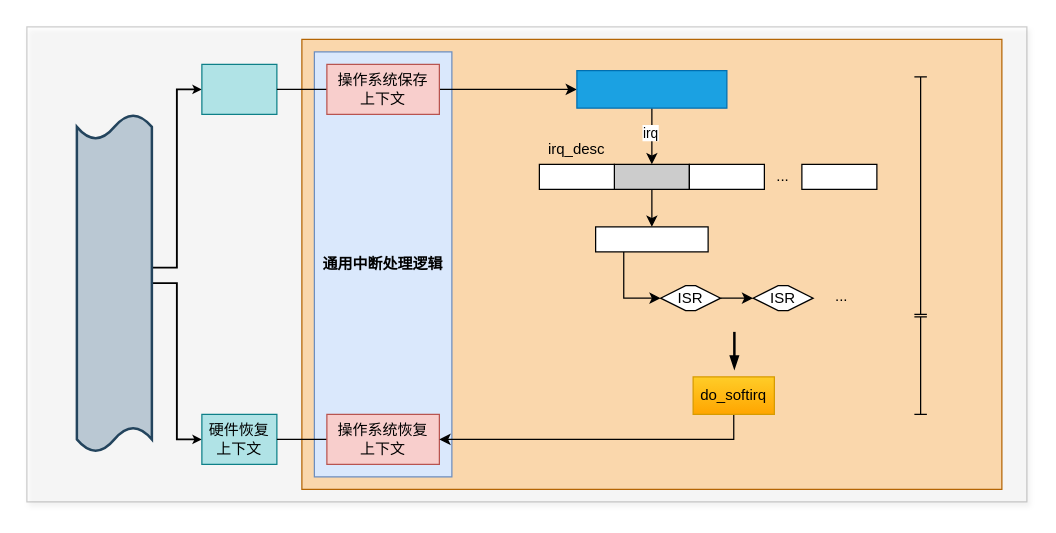
The diagram is 1056 pixels wide and 533 high, and some of its shapes have lost their labels. The centre of each missing label's shape, as x and y in pixels:
handle_domain_irq: (x=651, y=88)
handle_irq: (x=651, y=239)
硬件保存上下文: (x=239, y=88)
被中断的任务: (x=113, y=282)
